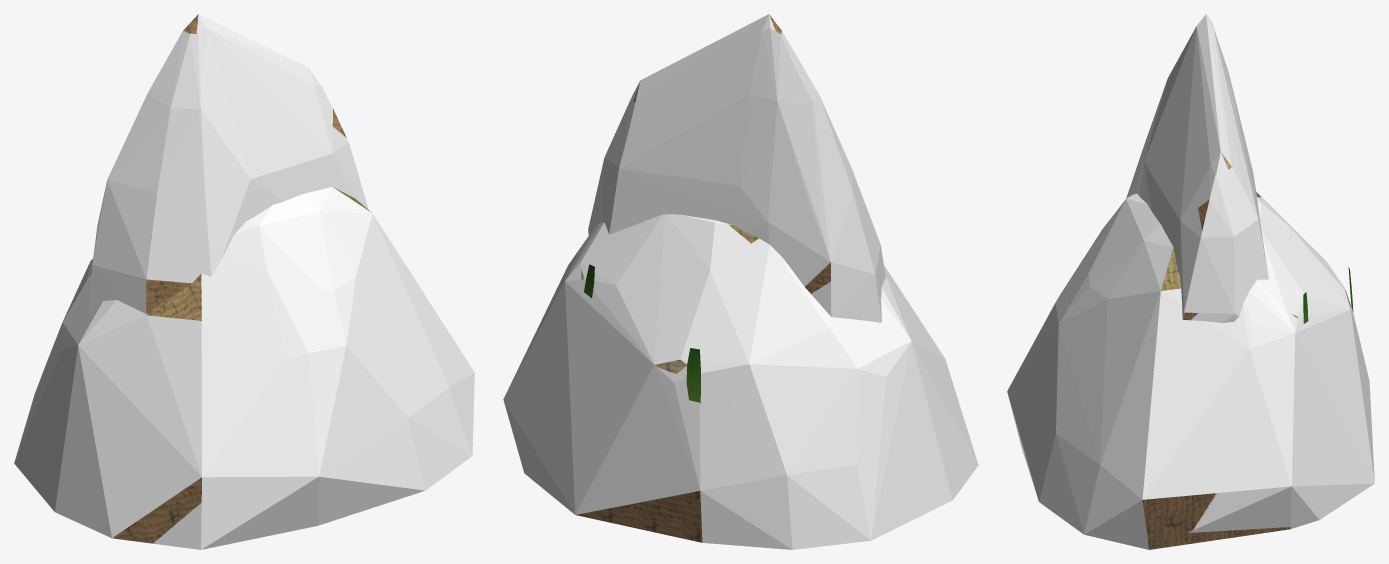
File: cliff_summit_crag_spire.glb
3 views of the same model, side by side, from view 1: azimuth 30°, elevation 25°; view 2: azimuth 150°, elevation 25°; view 3: azimuth 270°, elevation 25° (orthographic). The views are drawn at different scales.
Visible parts, largest first — view 1: col_summit_base, col_summit_crown, CliffSummitCragSpire; view 2: col_summit_base, col_summit_crown, CliffSummitCragSpire; view 3: col_summit_base, col_summit_crown, CliffSummitCragSpire.
Part boxes in pixels (x1,y1,x2,y2): col_summit_base: [14, 187, 474, 549]; col_summit_crown: [89, 14, 368, 313]; CliffSummitCragSpire: [112, 14, 371, 543]; col_summit_base: [503, 214, 978, 549]; col_summit_crown: [588, 14, 885, 322]; CliffSummitCragSpire: [576, 14, 830, 542]; col_summit_base: [1007, 192, 1374, 549]; col_summit_crown: [1126, 14, 1268, 322]; CliffSummitCragSpire: [1142, 152, 1353, 549].
Bounding box in the file's own units: 21.4 × 22.58 × 17.77.
4 materials, 3 textured.
